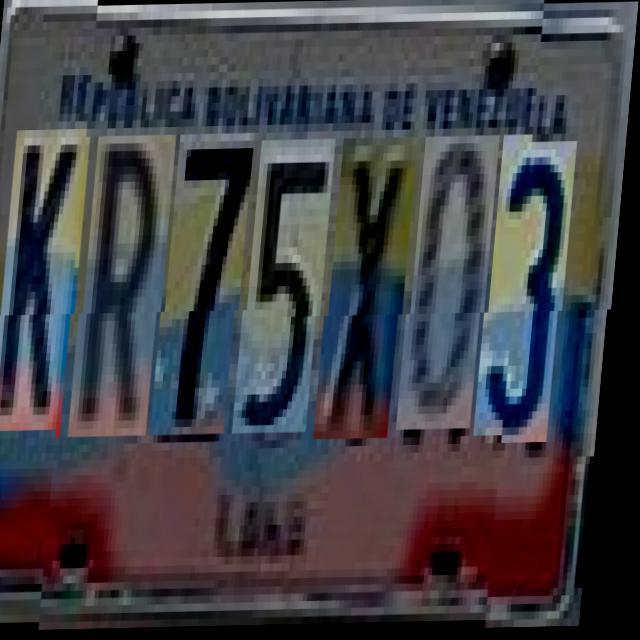3: (486, 136, 580, 438)
5: (244, 140, 338, 434)
7: (162, 134, 257, 436)
K: (0, 137, 93, 439)
O: (408, 138, 502, 432)
R: (80, 136, 179, 438)
X: (326, 139, 420, 441)
